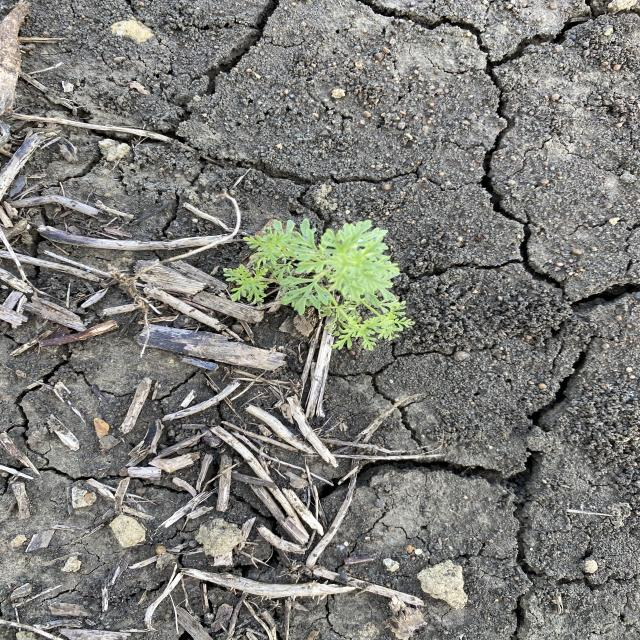Ragweed: (220, 218, 417, 353)
